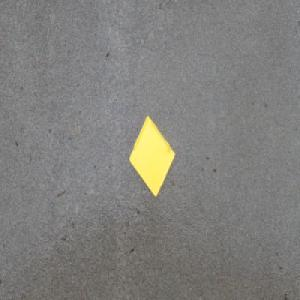PlasticPart: (128, 114, 176, 198)
